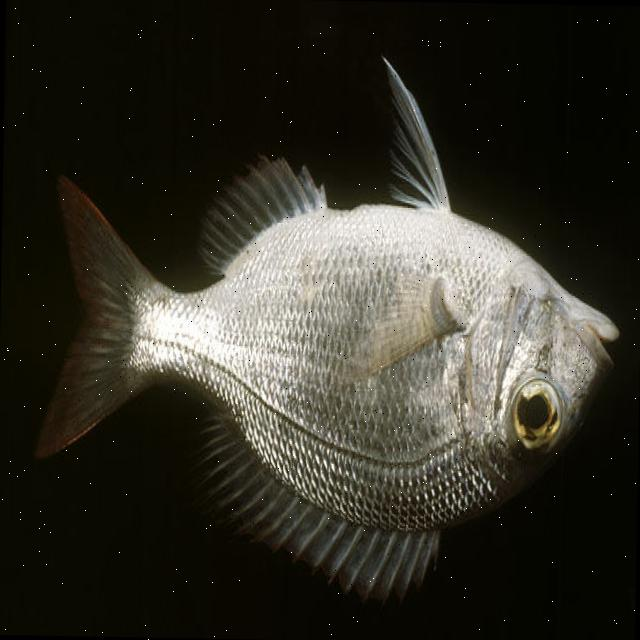ikan: (30, 48, 626, 611)
